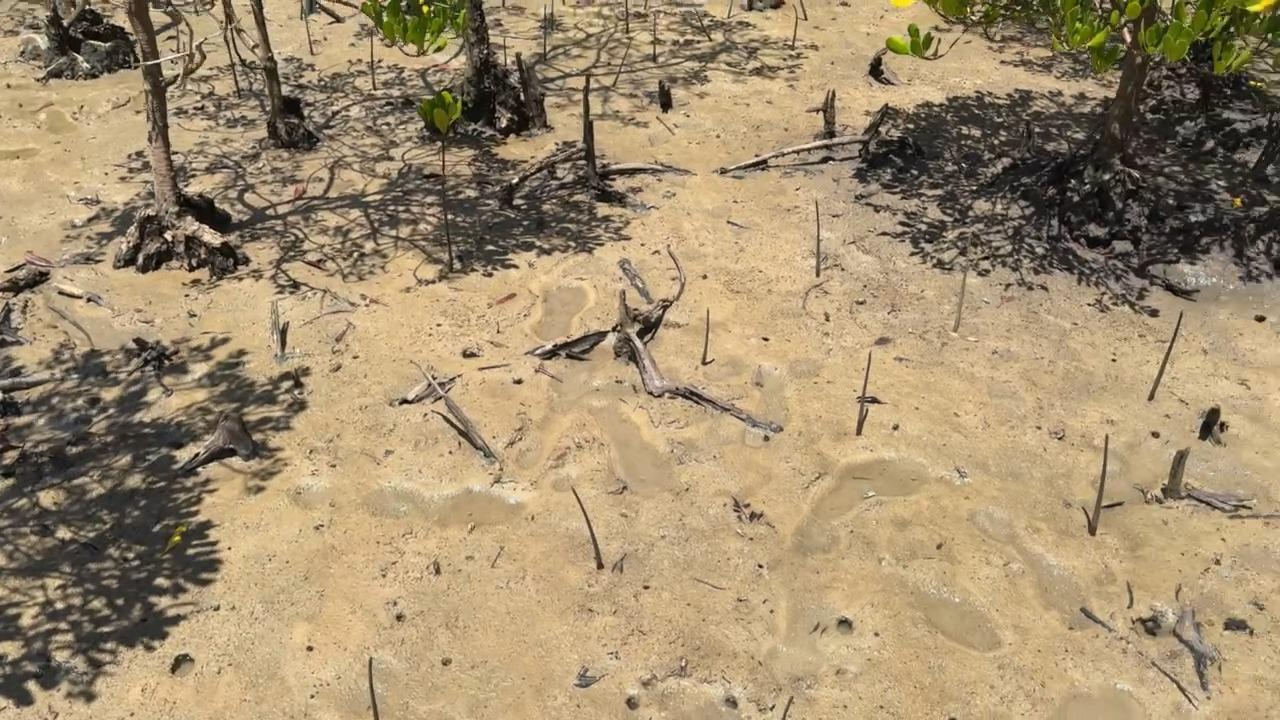Tree: (415, 92, 462, 272), (1149, 311, 1184, 401), (571, 487, 605, 570), (1090, 433, 1110, 536), (953, 251, 971, 332), (855, 351, 872, 436), (612, 41, 631, 88), (366, 657, 379, 720), (695, 9, 714, 42), (302, 9, 314, 56), (369, 32, 378, 91), (815, 200, 821, 276), (701, 309, 709, 365), (793, 5, 799, 47), (543, 4, 547, 61), (799, 0, 808, 21), (625, 0, 630, 33), (654, 12, 657, 60), (727, 0, 734, 19), (551, 0, 555, 30)
